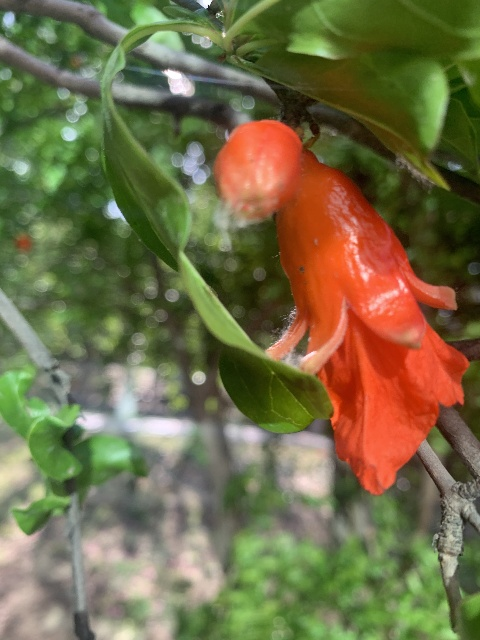bud: (213, 119, 301, 220)
flower: (264, 144, 472, 498)
